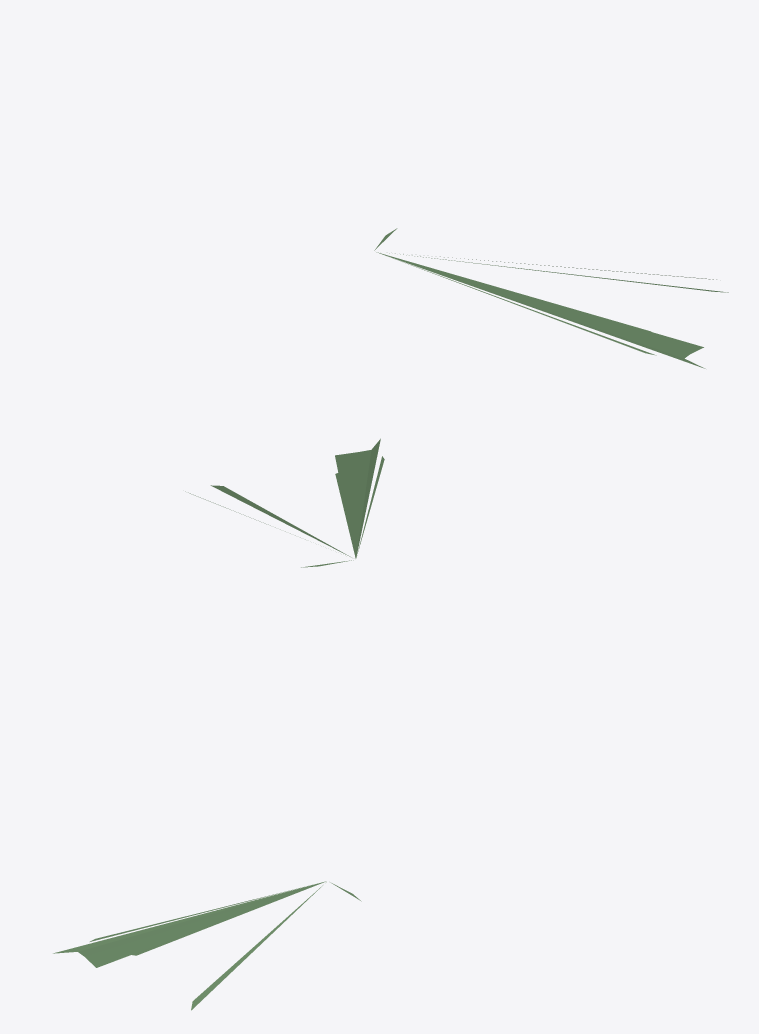
File: c_1669_17827_forest.glb
3 renders of one model, top to bottom at view 1: azimuth 30°, elevation 25°; view 2: azimuth 150°, elevation 25°; view 3: azimuth 270°, elevation 25°, orthographic. The views are drawn at different scales.
Visible parts, largest first — view 1: geometry_0; view 2: geometry_0; view 3: geometry_0.
Boxes of the visible parts, bbox=[...] form: geometry_0: bbox=[374, 228, 728, 368]; geometry_0: bbox=[185, 438, 384, 567]; geometry_0: bbox=[53, 881, 361, 1010].
Size of the model in its own units: 556 by 93.14 by 789.
